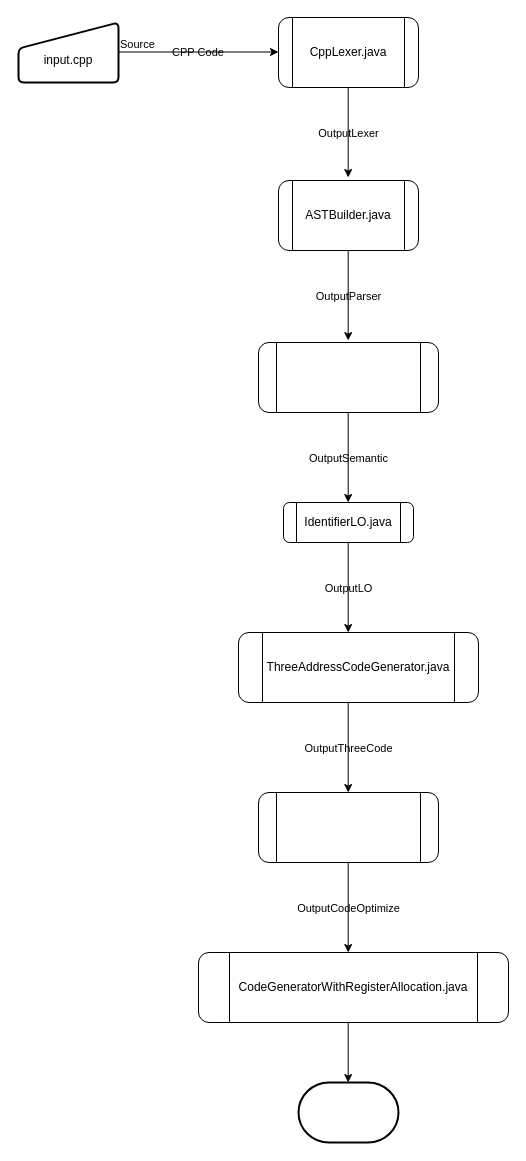
This 526x1161 diagram has some shape labels left out. The centre of each missing label's shape, as x and y in pixels:
"CodeOptimizer.java" belongs at point 348,827.
"FinalOutput" belongs at point 348,1112.
"SemanticAnalyzer.java" belongs at point 348,377.
